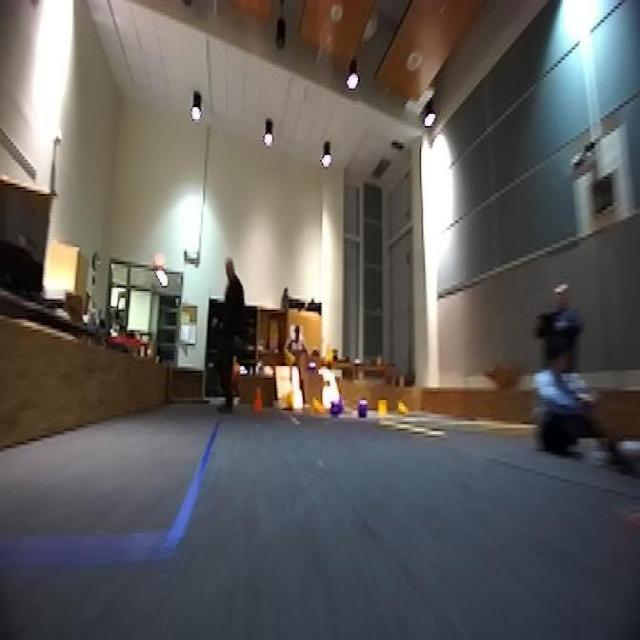frc_cone: (308, 398, 324, 421), (376, 398, 388, 424), (286, 347, 299, 368), (396, 402, 410, 420), (324, 342, 334, 366)
frc_cube: (356, 398, 371, 422), (306, 356, 318, 374), (330, 400, 340, 419)
